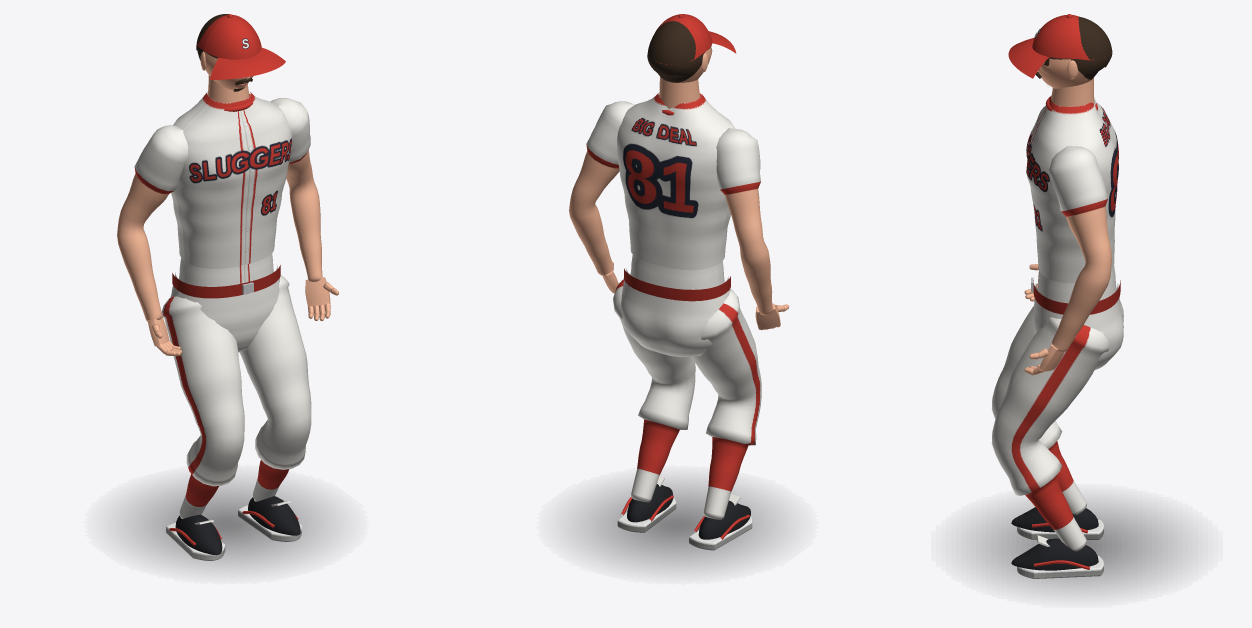
The model's file is player_26_home.glb.
3 views of the same model, side by side, from view 1: azimuth 30°, elevation 25°; view 2: azimuth 150°, elevation 25°; view 3: azimuth 270°, elevation 25° (orthographic). The views are drawn at different scales.
Parts seen in each view (by area): view 1: player_26_home, object 32, object 34, object 2; view 2: player_26_home, object 29, object 2, object 32; view 3: player_26_home, object 32, object 29, object 36, object 34, object 2.
Boxes of the visible parts, left/top/right/bottom form: player_26_home: left=117, top=92, right=334, bottom=570; object 32: left=196, top=14, right=261, bottom=59; object 34: left=209, top=47, right=285, bottom=79; object 2: left=207, top=75, right=249, bottom=102; player_26_home: left=569, top=93, right=785, bottom=570; object 29: left=647, top=21, right=711, bottom=76; object 2: left=659, top=77, right=700, bottom=108; object 32: left=652, top=14, right=712, bottom=64; player_26_home: left=966, top=95, right=1187, bottom=592; object 32: left=1032, top=14, right=1112, bottom=60; object 29: left=1049, top=16, right=1112, bottom=67; object 36: left=1038, top=58, right=1103, bottom=88; object 34: left=1008, top=37, right=1049, bottom=78; object 2: left=1051, top=77, right=1094, bottom=106.
Bounding box in the file's own units: 3.4 × 6.29 × 3.4.
Materials: 26 (5 with a texture image).
